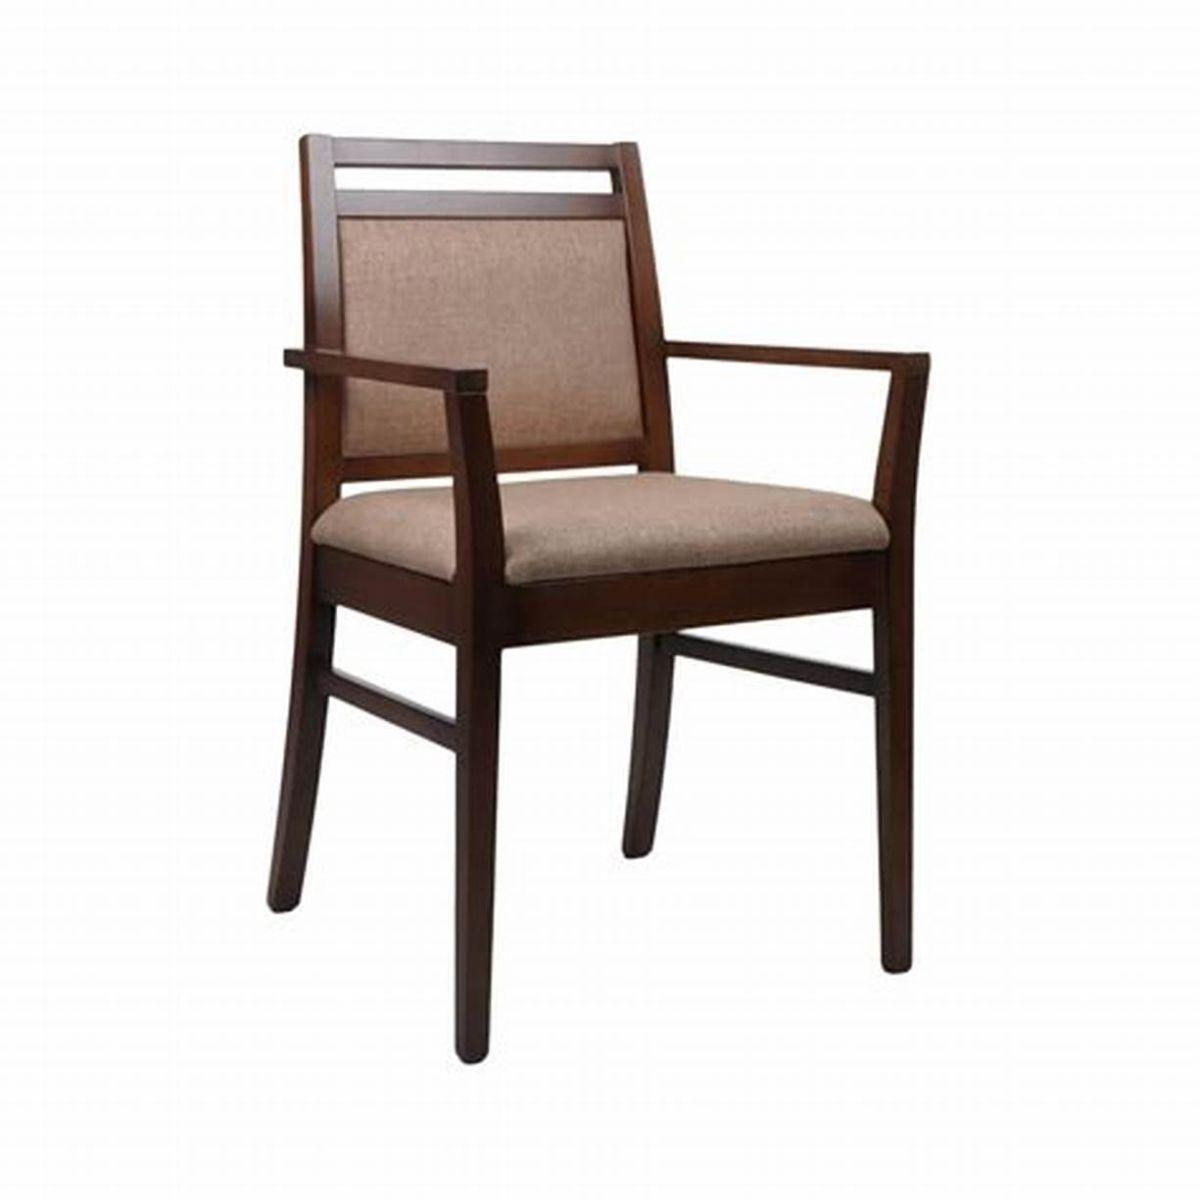Chair: (277, 130, 937, 1062)
